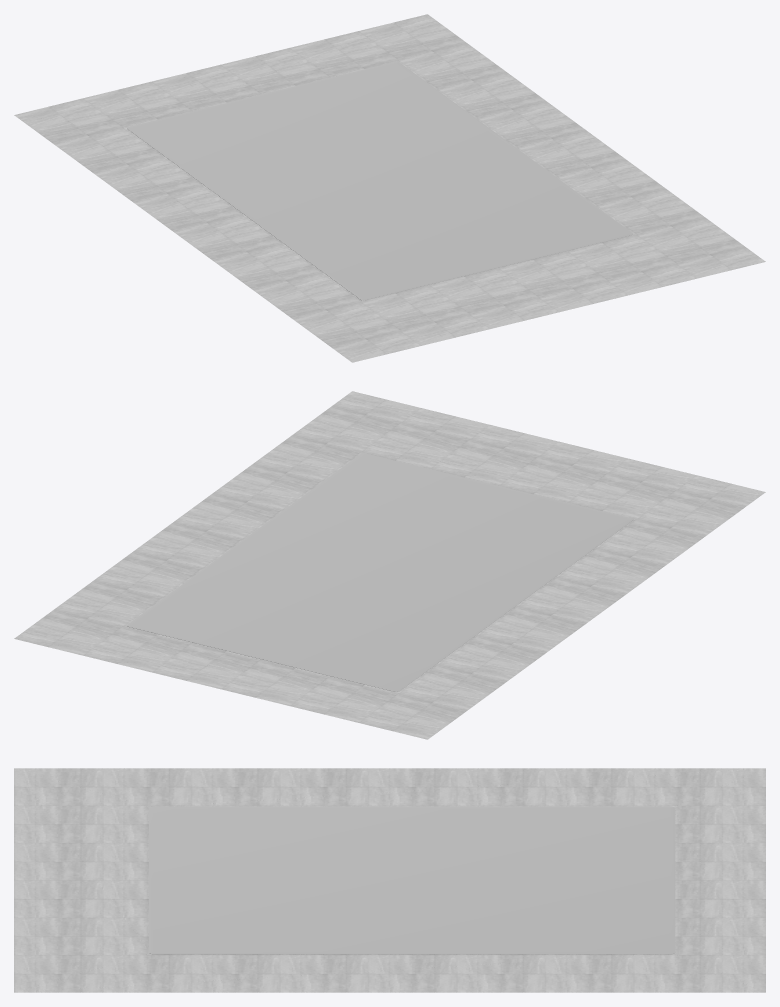
The picture shows the model from 3 angles, top to bottom: view 1: azimuth 30°, elevation 25°; view 2: azimuth 150°, elevation 25°; view 3: azimuth 270°, elevation 25°; orthographic projection. The views are drawn at different scales.
Parts seen in each view (by area): view 1: M_F_001_a_34x24; view 2: M_F_001_a_34x24; view 3: M_F_001_a_34x24.
Part boxes in pixels (box(x1,y1,x2,y2)): M_F_001_a_34x24: box(14, 14, 765, 362); M_F_001_a_34x24: box(14, 391, 765, 739); M_F_001_a_34x24: box(14, 768, 765, 992).
Bounding box in the file's own units: 24 × 0.01 × 34.
